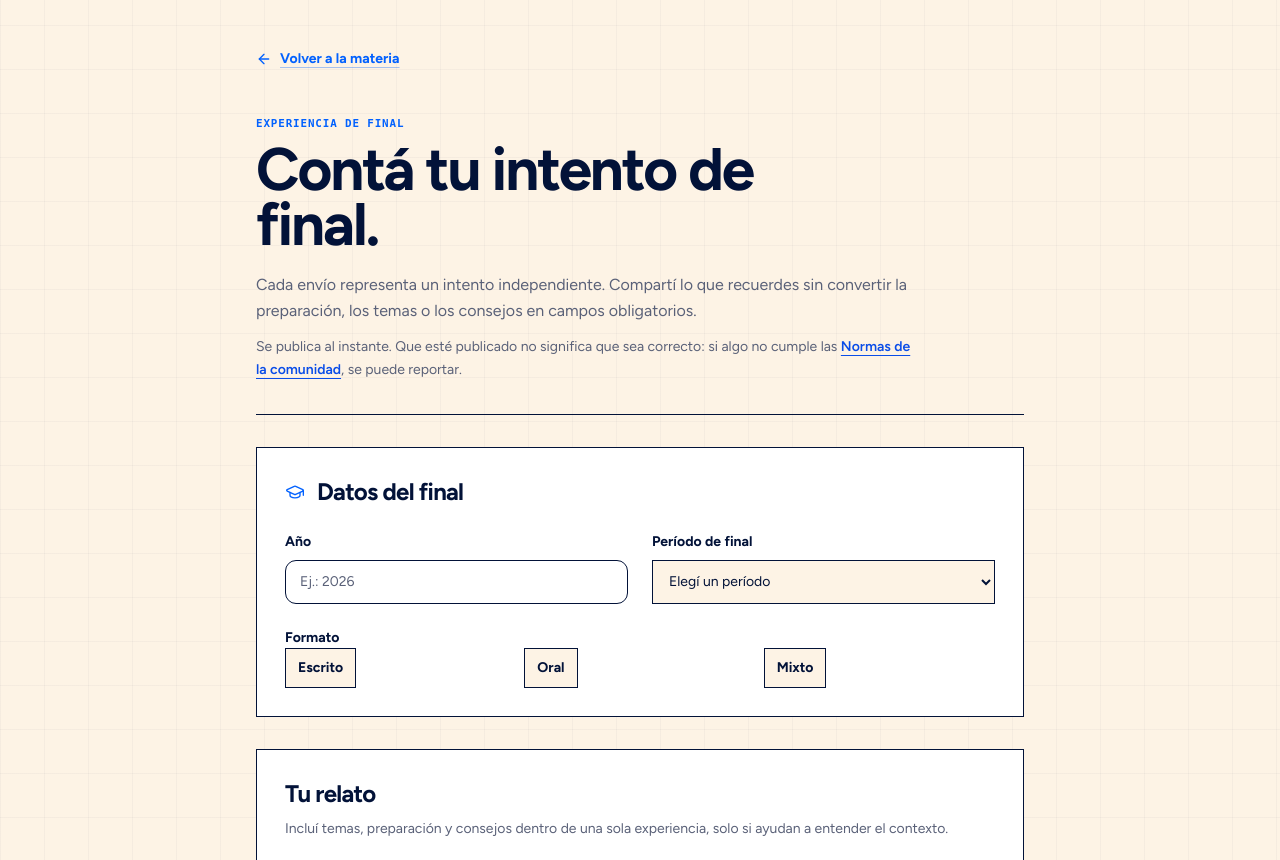
Test: ExamForm › tells a new account that the experiencia waits for revisión previa
Type "2026" into the number field labelled "Año" at coordinates (456, 582), box [285,560,628,604]
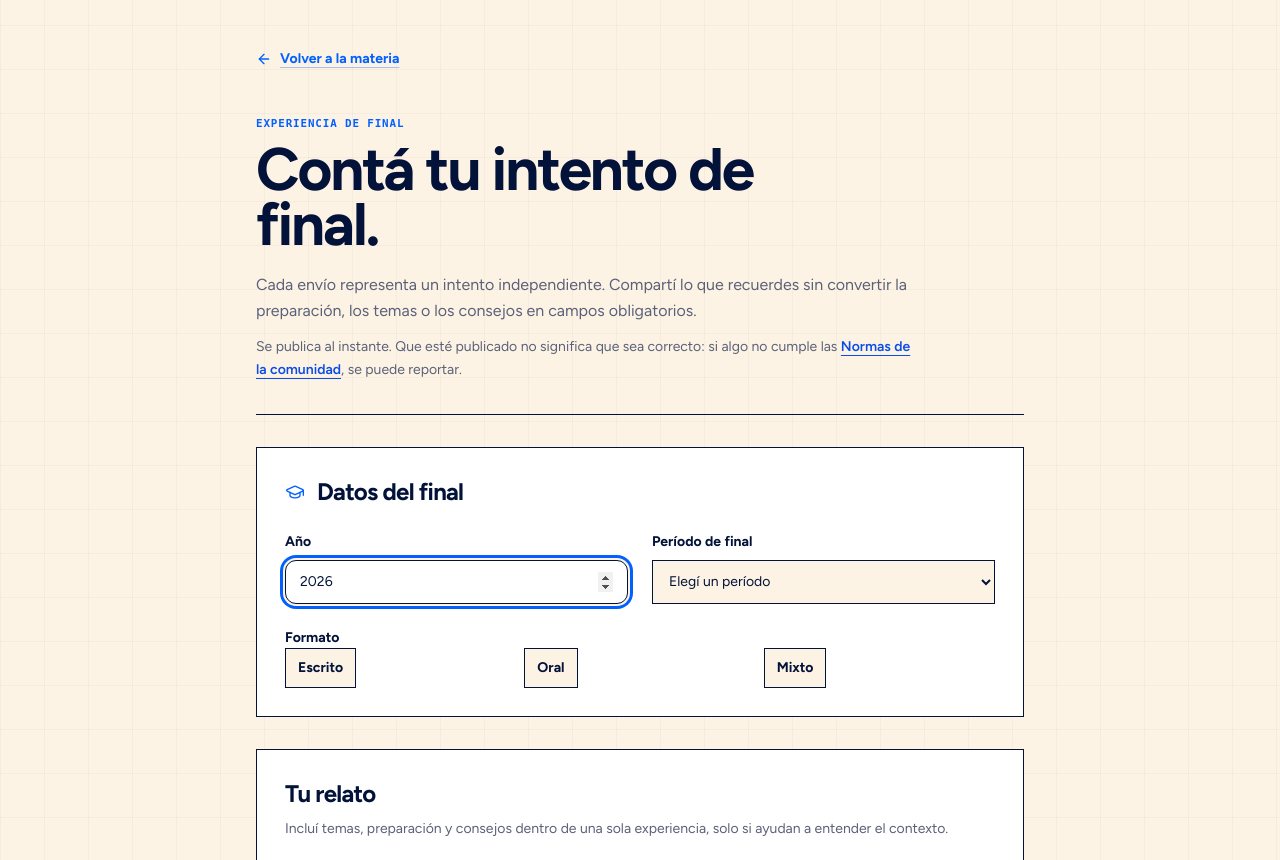
Select "Julio" in the dropdown labelled "Período de final" at coordinates (824, 582), box [652,560,995,604]
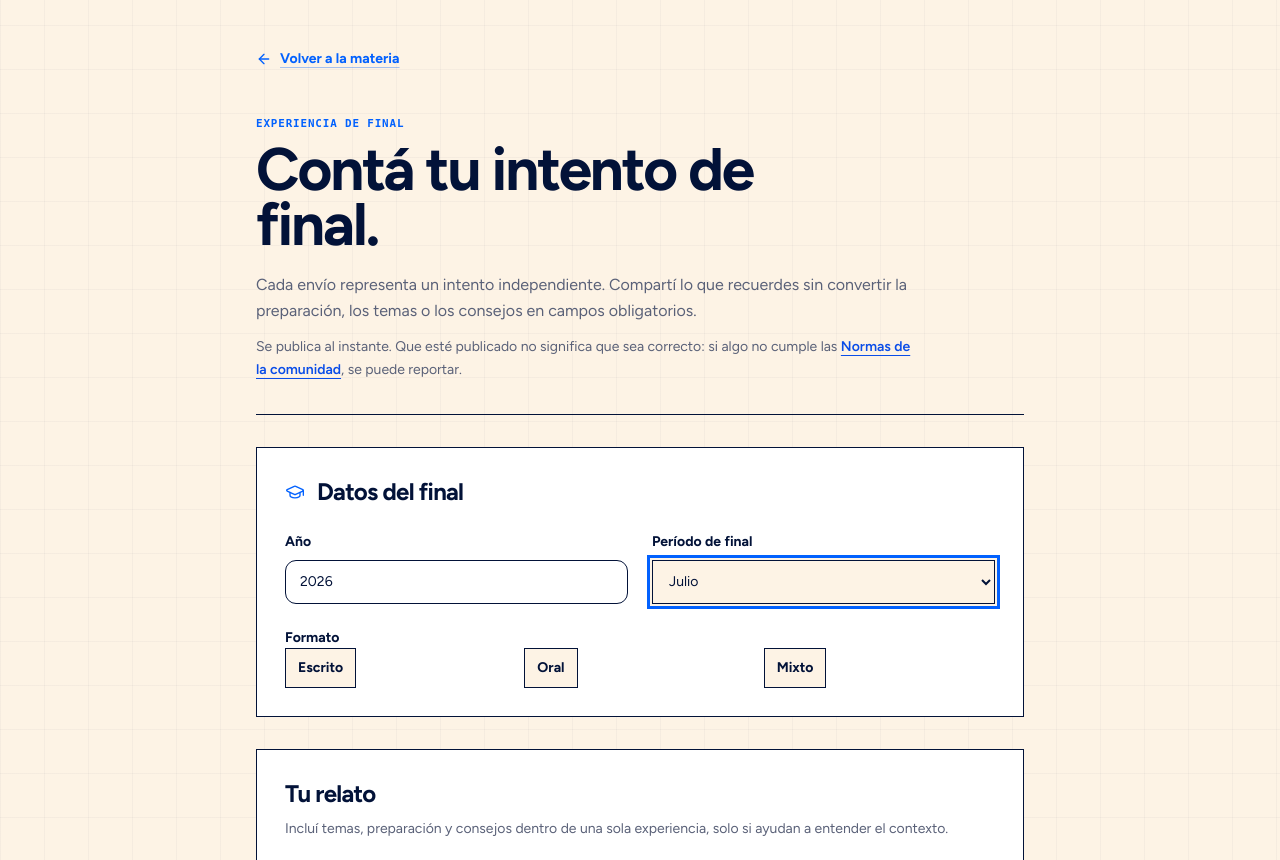
Click the radio button labelled "Oral" at coordinates (551, 668), box [524,648,578,688]
(page scrolled)
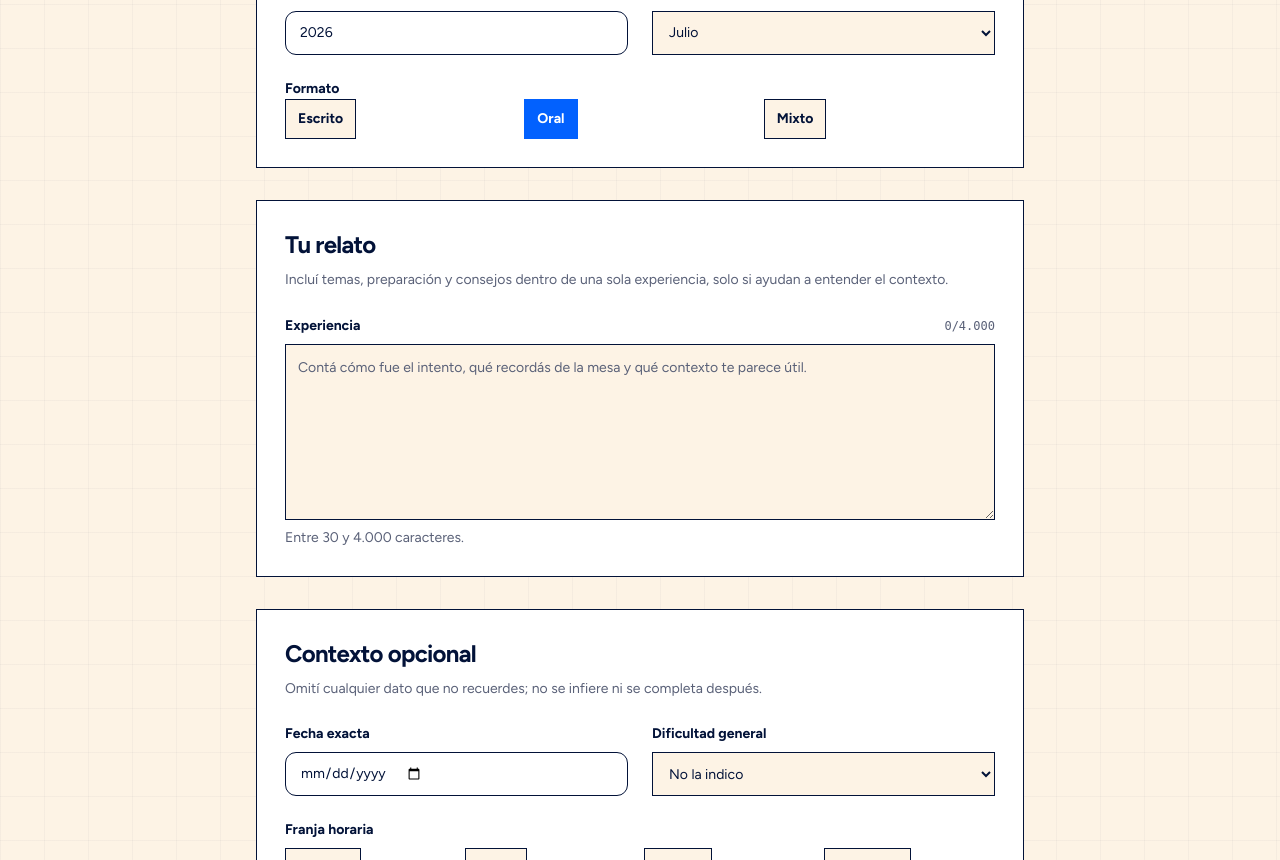
Type "La mesa recorrió grafos, complejidad y una defensa oral de las estructuras elegidas." into the text box labelled "Experiencia" at coordinates (640, 432), box [285,344,995,520]
(page scrolled)
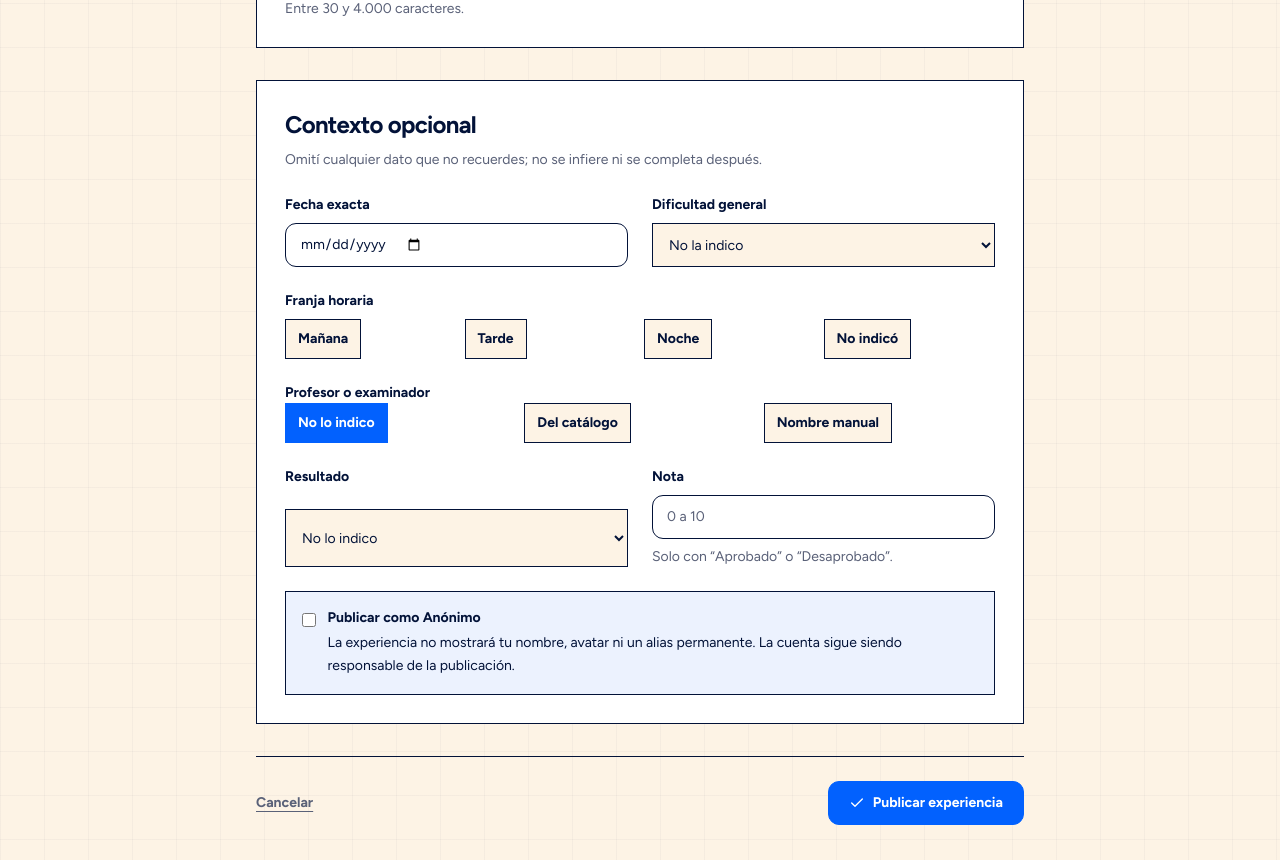
Click the button "Publicar experiencia" at coordinates (926, 803), box [828,781,1024,825]
(page scrolled)
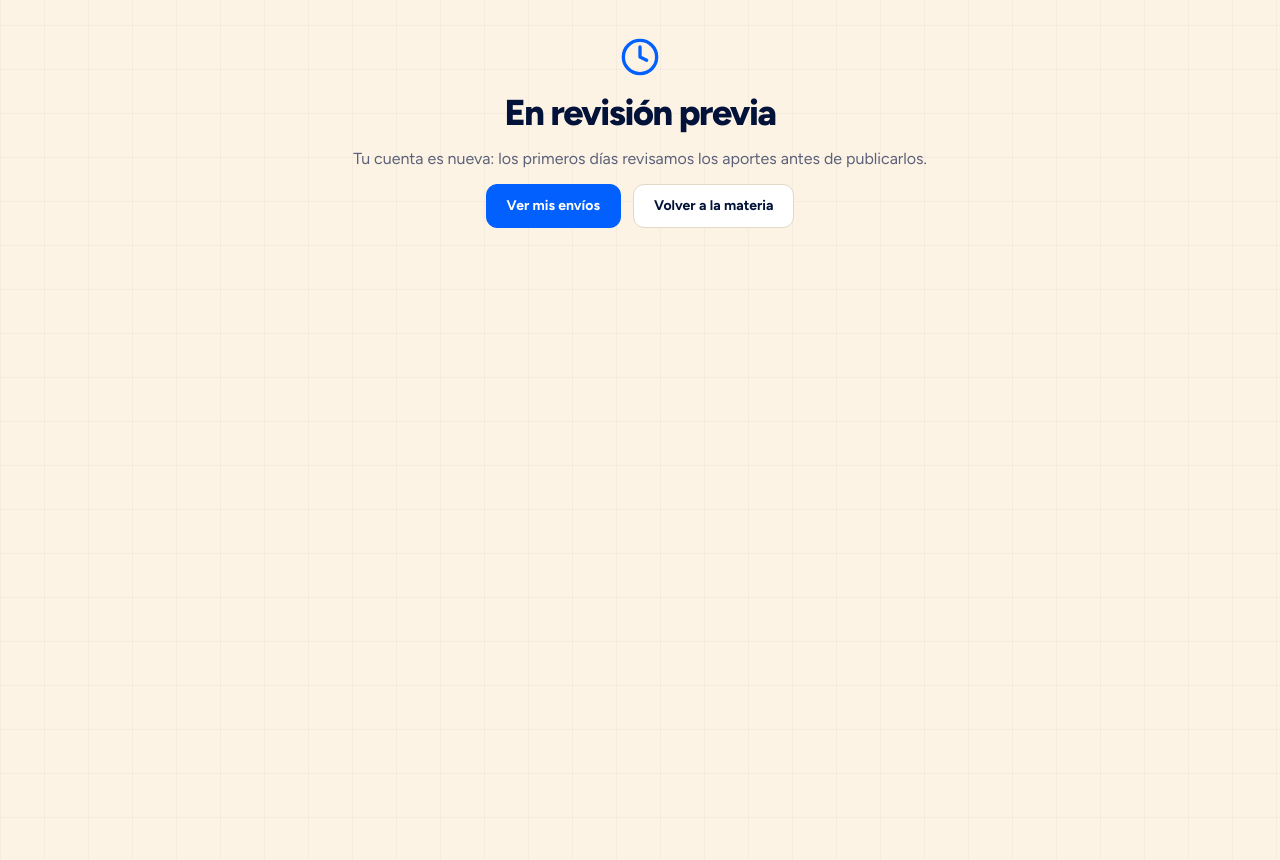
Check: the heading "En revisión previa" is shown, box [504,91,775,134]
Check: the text "Tu cuenta es nueva" is shown, box [353,149,927,168]
